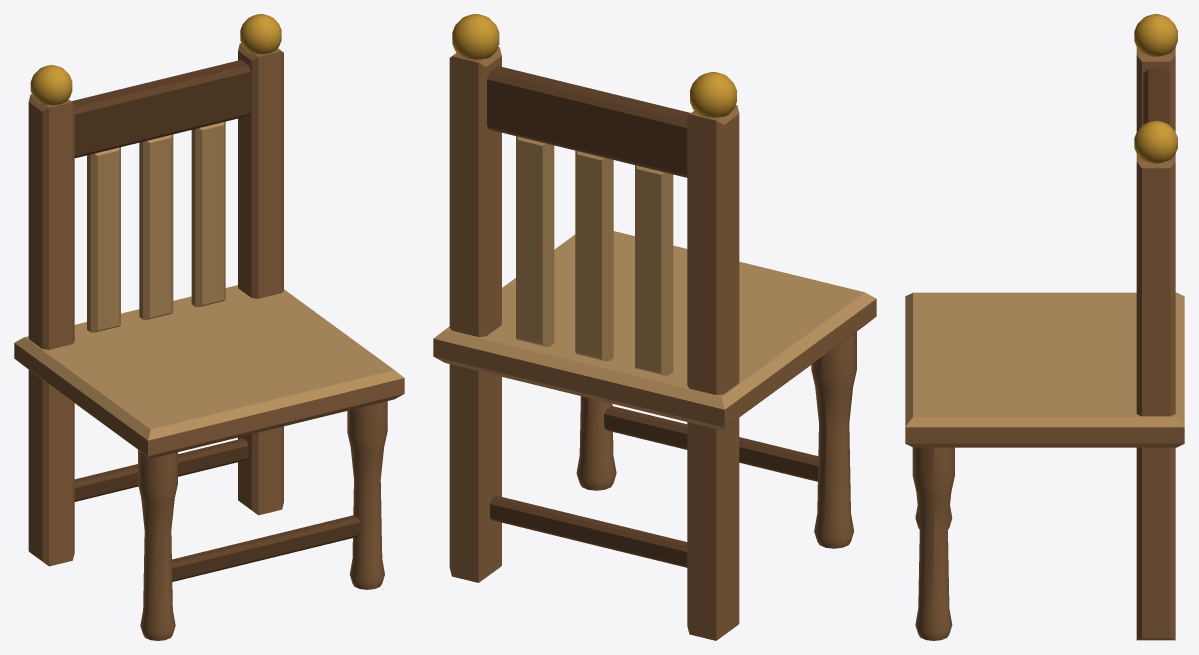
Rendered from Chair_14.glb.
3 renders of one model, left to right at view 1: azimuth 30°, elevation 25°; view 2: azimuth 150°, elevation 25°; view 3: azimuth 270°, elevation 25°, orthographic. The views are drawn at different scales.
Visible parts, largest first — view 1: Chair_14; view 2: Chair_14; view 3: Chair_14.
Boxes of the visible parts, x1,y1,x2,y2 form: Chair_14: [14, 14, 404, 640]; Chair_14: [433, 14, 876, 640]; Chair_14: [905, 14, 1184, 640].
Bounding box in the file's own units: 2.38 × 4.33 × 2.14.
